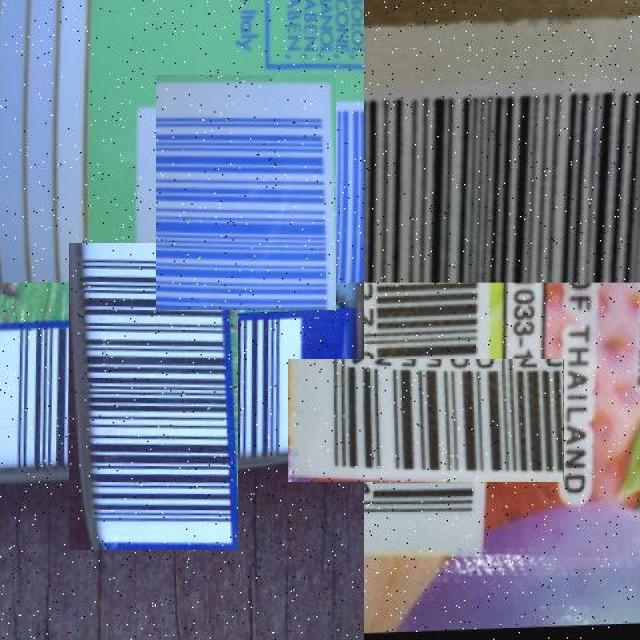Barcode: (35, 277, 273, 516), (364, 81, 640, 283), (142, 88, 350, 296), (326, 320, 526, 520)
